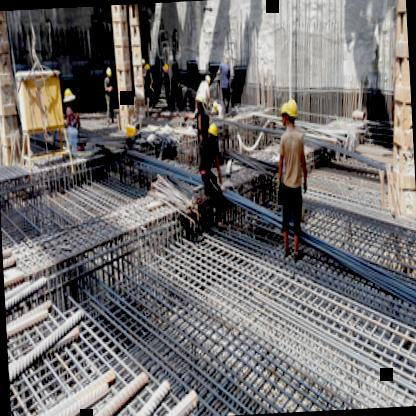helmet: (282, 94, 301, 128), (203, 118, 219, 142), (278, 98, 290, 128)
